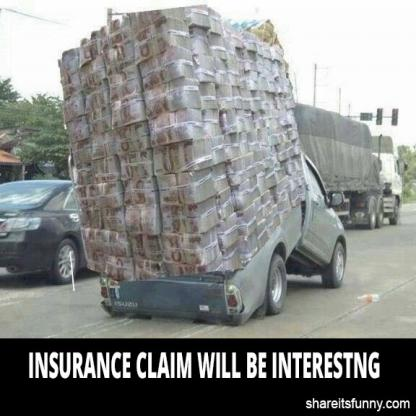overloaded-truck: (52, 16, 302, 320)
